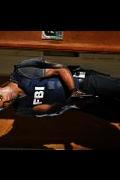gun: (68, 88, 100, 104)
